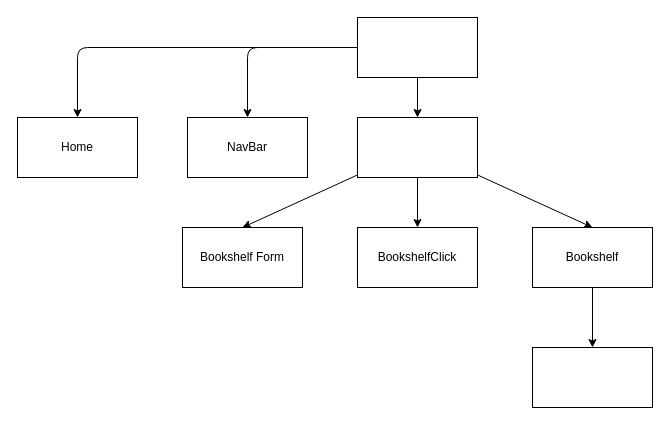
Image size: 670x425. Some labels were removed from this diagram. The box of each missing label's shape, as (x1, y1, x2, y2) in pixels:
App: (356, 16, 478, 78)
Book: (532, 346, 652, 408)
Bookshelves: (356, 116, 478, 178)
